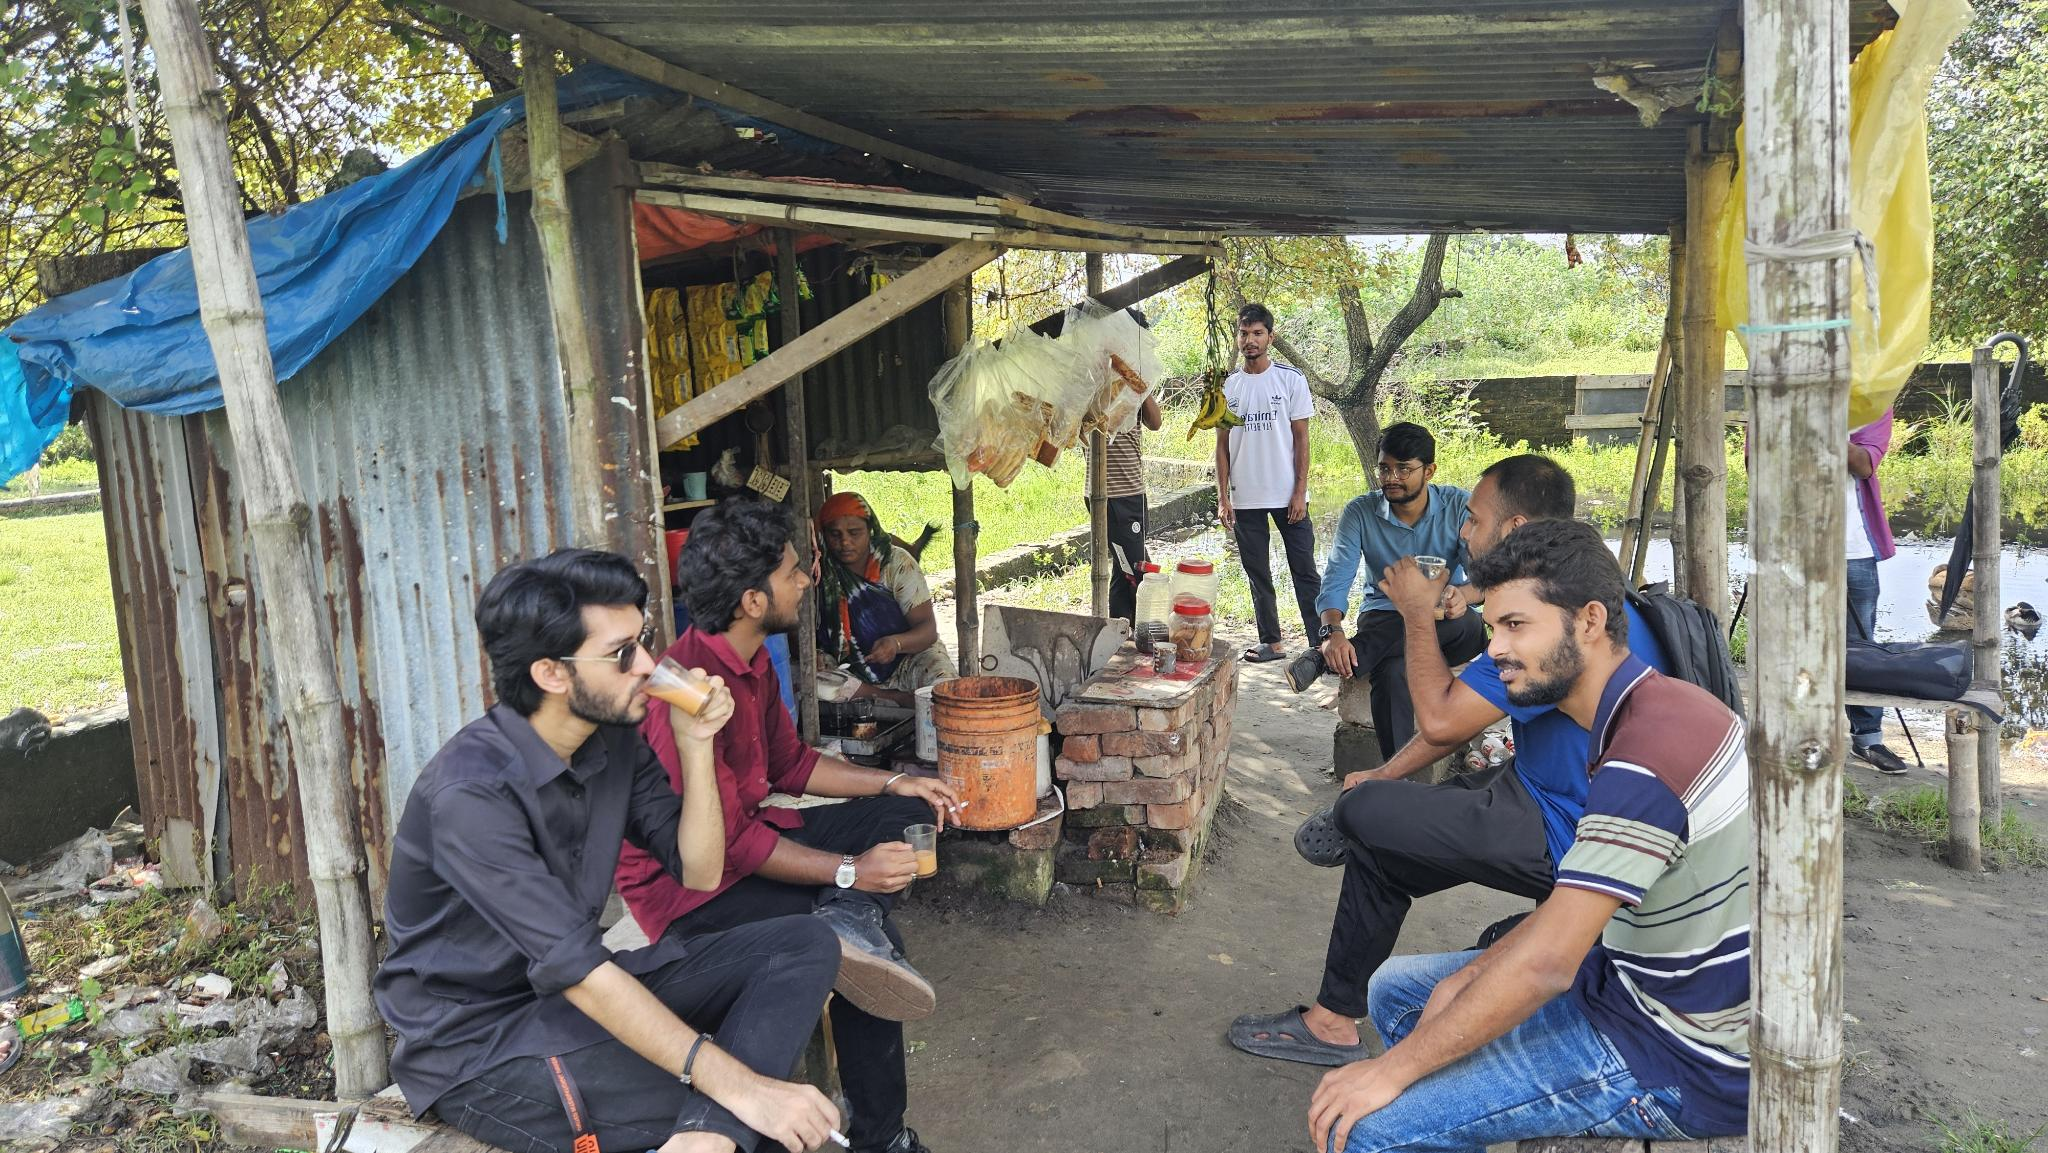cigarette: (828, 1126, 854, 1150), (947, 800, 971, 814)
nonSmoker: (1228, 454, 1744, 1069), (1307, 519, 1747, 1153), (1283, 422, 1487, 758), (1218, 302, 1318, 665), (816, 492, 958, 707)
smoker: (378, 548, 843, 1153), (655, 496, 965, 1153)
